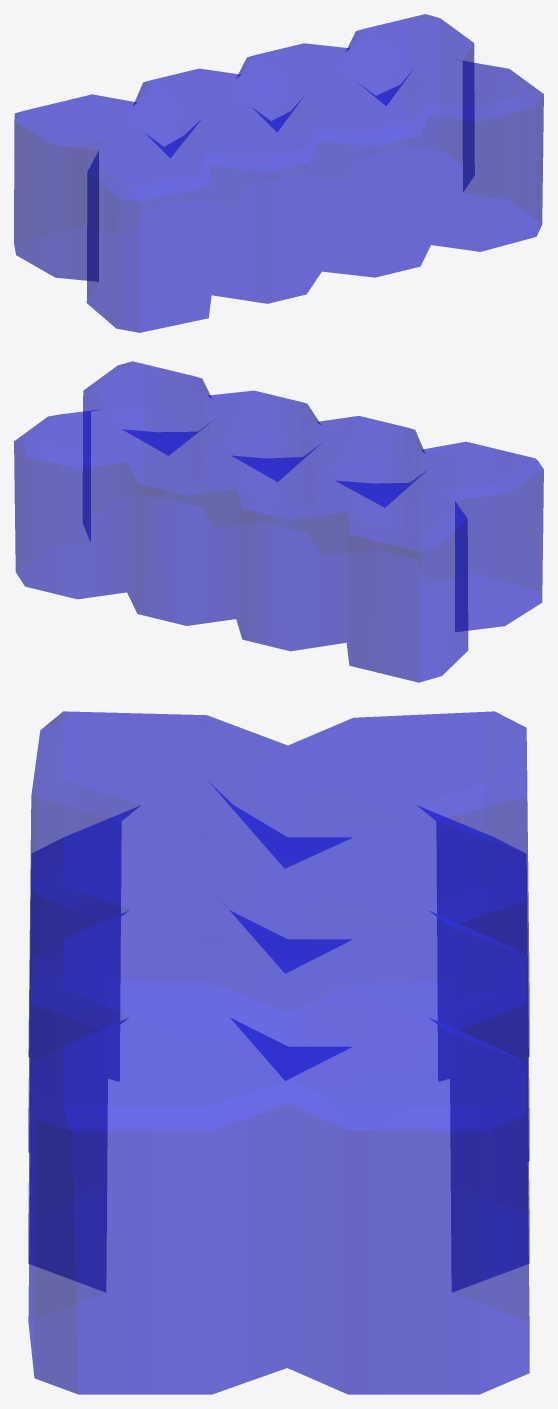
Rendered from TireSet_Low.fbx.
3 renders of one model, top to bottom at view 1: azimuth 30°, elevation 25°; view 2: azimuth 150°, elevation 25°; view 3: azimuth 270°, elevation 25°, orthographic. The views are drawn at different scales.
Parts seen in each view (by area): view 1: TireSet_Low; view 2: TireSet_Low; view 3: TireSet_Low.
Boxes of the visible parts, left/top/right/bottom form: TireSet_Low: left=14, top=14, right=543, bottom=332; TireSet_Low: left=14, top=361, right=543, bottom=682; TireSet_Low: left=28, top=711, right=529, bottom=1394.
Size of the model in its own units: 219 by 68.31 by 112.
